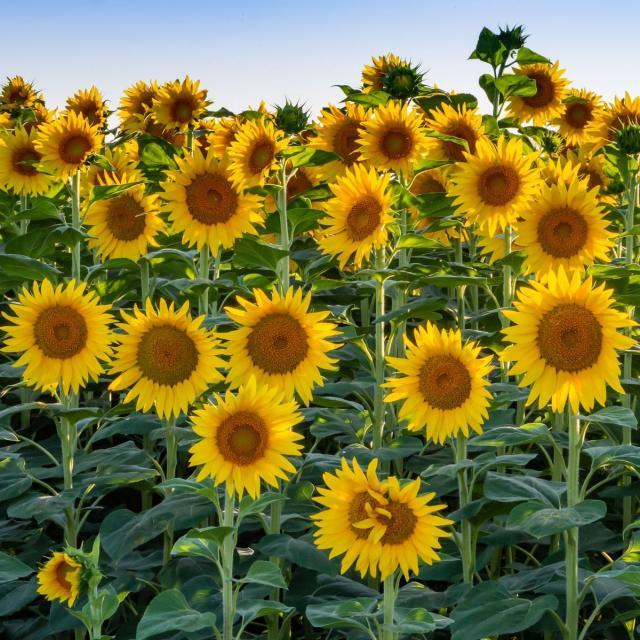sunflower: (498, 264, 639, 415), (308, 456, 454, 584), (216, 284, 345, 406), (188, 373, 306, 501), (105, 296, 226, 420), (380, 320, 495, 444), (0, 276, 116, 398), (472, 156, 600, 266), (510, 174, 620, 286), (156, 146, 265, 257), (446, 134, 544, 238), (314, 162, 396, 270), (82, 169, 170, 263), (258, 152, 334, 248), (354, 98, 432, 176), (538, 141, 623, 209), (304, 100, 372, 184), (32, 109, 104, 184), (406, 164, 470, 248), (225, 114, 292, 194), (78, 146, 150, 220), (122, 96, 202, 160), (502, 59, 574, 128), (204, 100, 279, 166), (0, 124, 61, 198), (424, 100, 490, 161), (151, 74, 214, 134), (582, 91, 640, 155), (548, 84, 604, 148), (360, 52, 430, 100), (36, 552, 84, 608), (1, 93, 58, 137), (115, 79, 162, 132), (59, 84, 108, 126), (188, 116, 224, 158), (0, 74, 40, 110), (113, 136, 142, 163)
